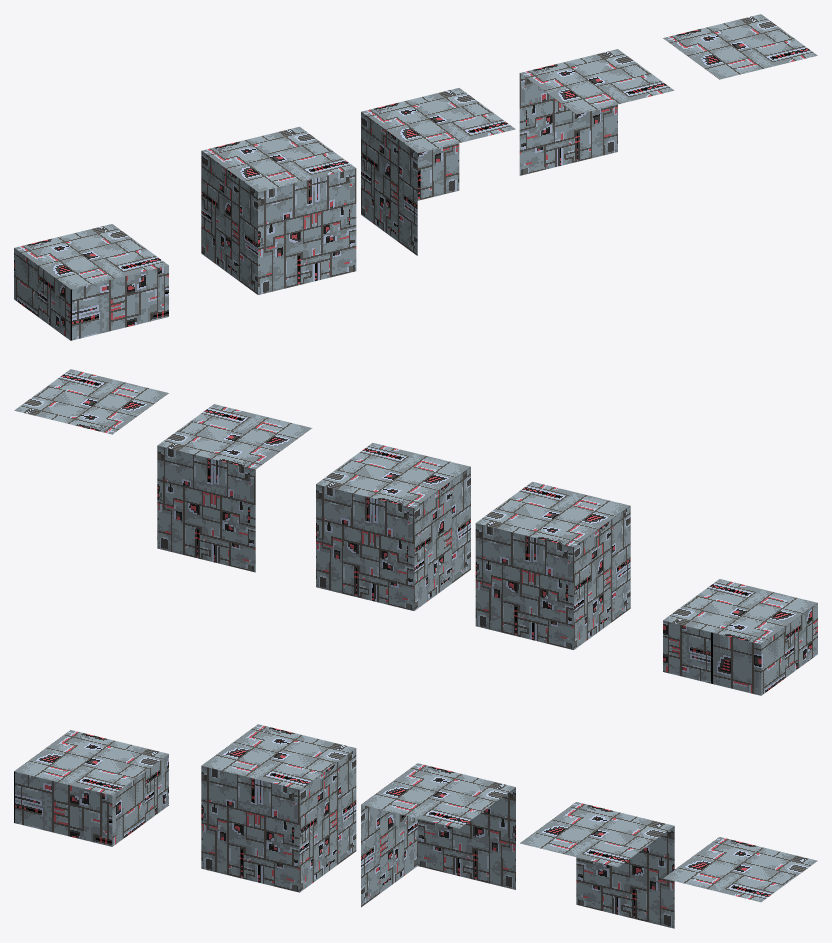
Rendered from GodotBlock.glb.
The picture shows the model from 3 angles, top to bottom: view 1: azimuth 30°, elevation 25°; view 2: azimuth 150°, elevation 25°; view 3: azimuth 330°, elevation 25°; orthographic projection.
Parts seen in each view (by area): view 1: Cube-col, Cube_half-col, Cube-corner-col, Cube-side-col, Cube-top-col; view 2: Cube-col, Cube-corner-col, Cube-side-col, Cube_half-col, Cube-top-col; view 3: Cube-col, Cube-corner-col, Cube_half-col, Cube-side-col, Cube-top-col.
Part boxes in pixels (<box>): Cube-col: <box>201,126,356,294</box>; Cube_half-col: <box>14,224,168,340</box>; Cube-corner-col: <box>361,88,515,255</box>; Cube-side-col: <box>519,49,674,175</box>; Cube-top-col: <box>663,14,817,79</box>; Cube-col: <box>475,481,630,649</box>; Cube-corner-col: <box>316,443,470,610</box>; Cube-side-col: <box>157,404,311,572</box>; Cube_half-col: <box>663,579,817,695</box>; Cube-top-col: <box>14,369,168,434</box>; Cube-col: <box>201,724,356,892</box>; Cube-corner-col: <box>361,763,515,907</box>; Cube_half-col: <box>14,730,168,846</box>; Cube-side-col: <box>520,802,674,928</box>; Cube-top-col: <box>663,837,817,902</box>.
Bounding box in the file's own units: 7.6 × 1 × 1.
Materials: 1 (1 with a texture image).
